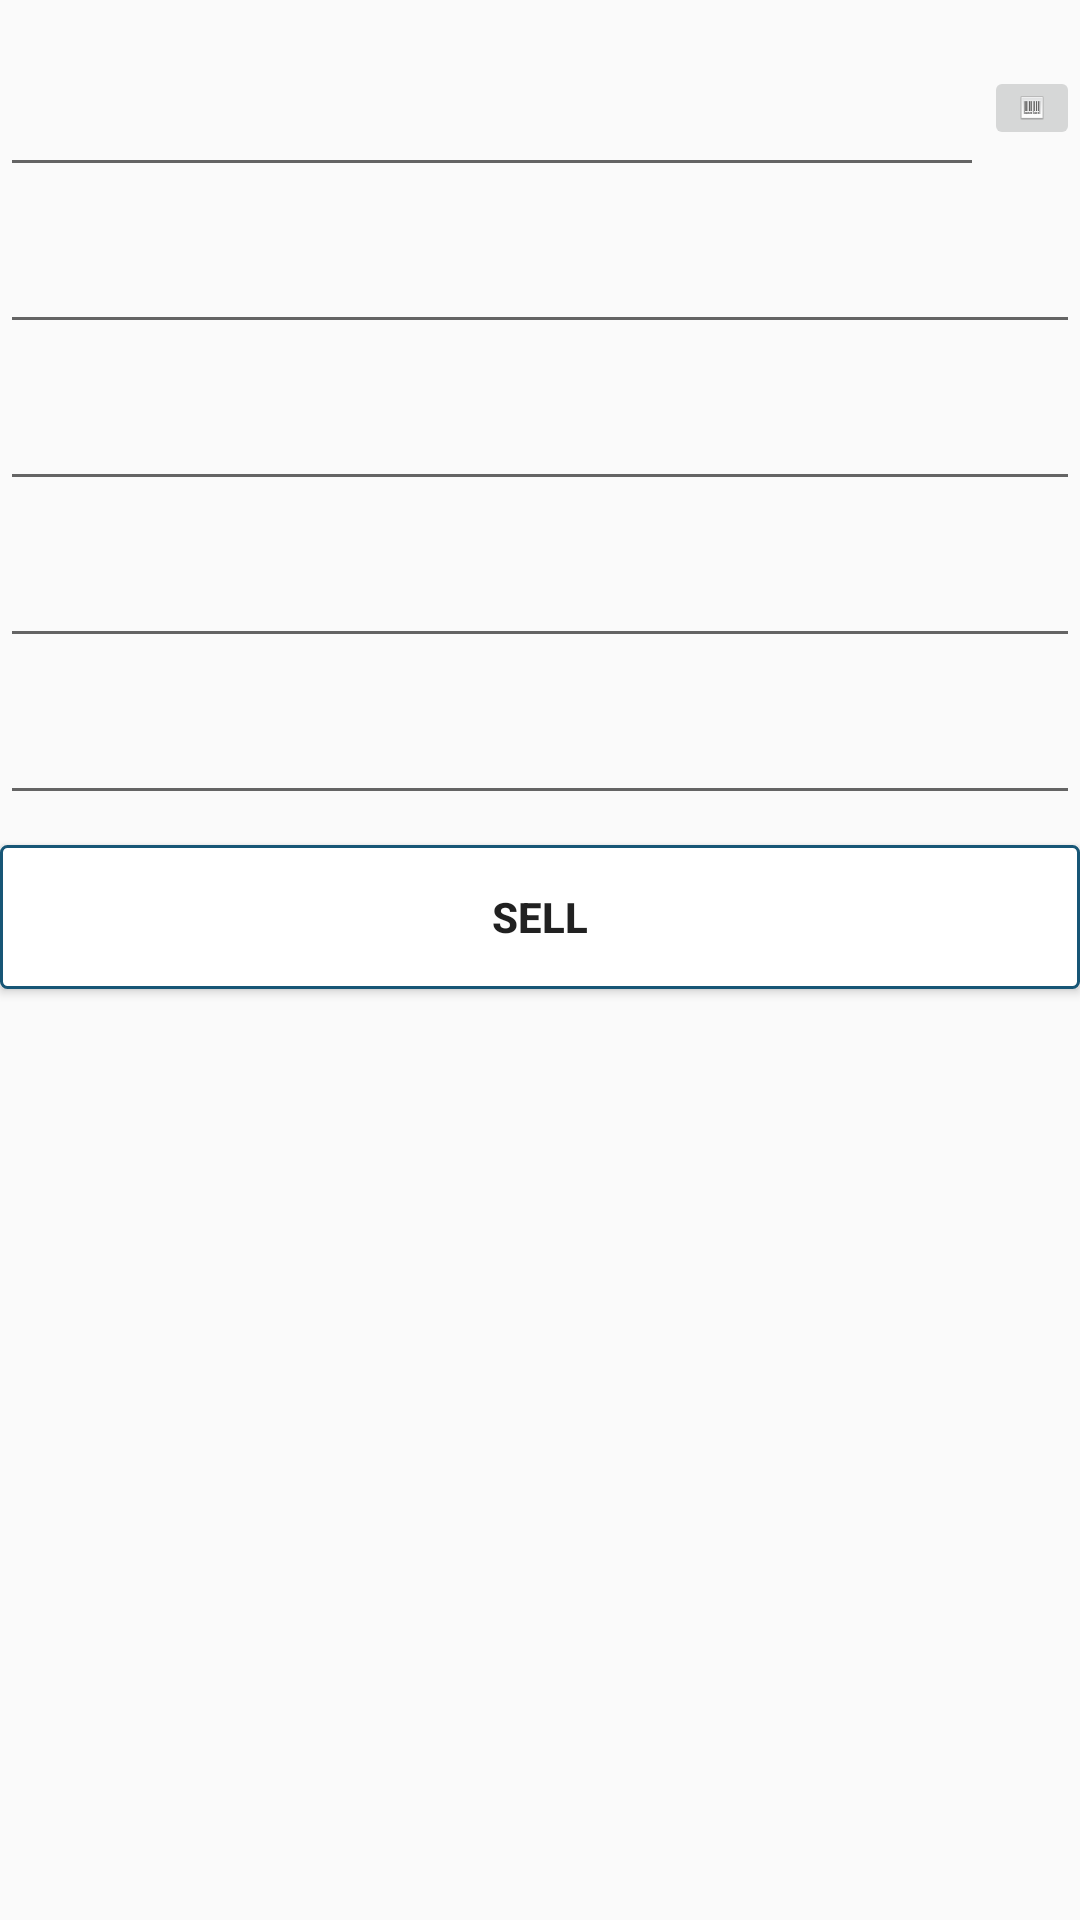

Screen size 1080 × 1920. Icon name, then its center in pixels as (x,y):
barcode: (1032,108)
